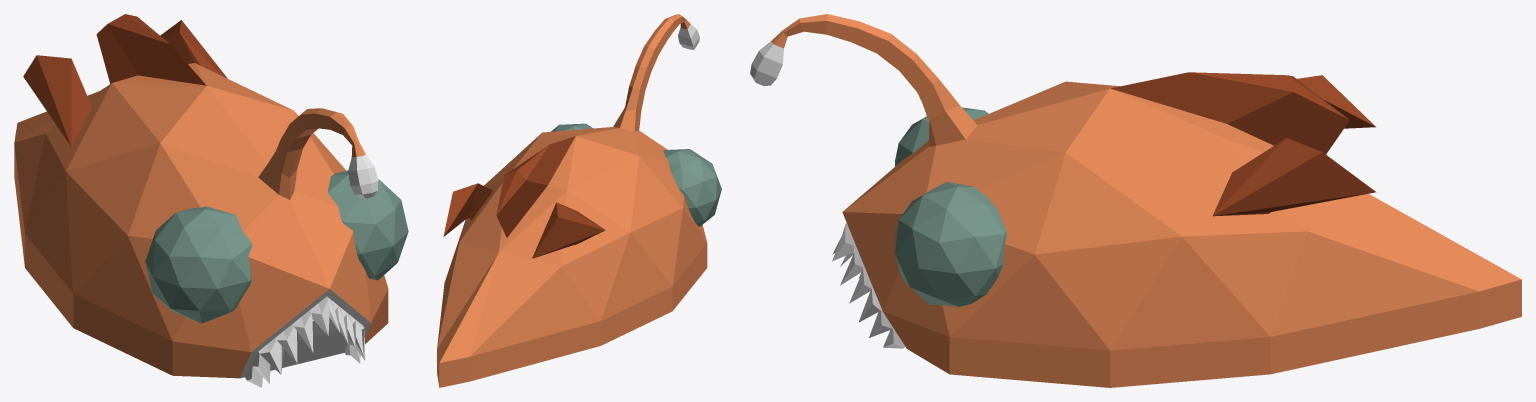
The model's file is Angler.fbx.
3 renders of one model, left to right at view 1: azimuth 30°, elevation 25°; view 2: azimuth 150°, elevation 25°; view 3: azimuth 270°, elevation 25°, orthographic. The views are drawn at different scales.
Visible parts, largest first — view 1: Icosphere, Icosphere.001, Icosphere.002, Icosphere.003; view 2: Icosphere, Icosphere.001; view 3: Icosphere, Icosphere.002, Icosphere.003, Icosphere.001.
Part boxes in pixels (x1,y1,x2,y2): Icosphere: (14, 14, 388, 378); Icosphere.001: (145, 206, 252, 323); Icosphere.002: (327, 170, 408, 280); Icosphere.003: (245, 296, 365, 387); Icosphere: (437, 14, 707, 387); Icosphere.001: (663, 149, 721, 226); Icosphere: (750, 14, 1521, 387); Icosphere.002: (895, 182, 1006, 306); Icosphere.003: (832, 223, 905, 348); Icosphere.001: (895, 107, 988, 166).
Size of the model in its own units: 200 by 202 by 460.
